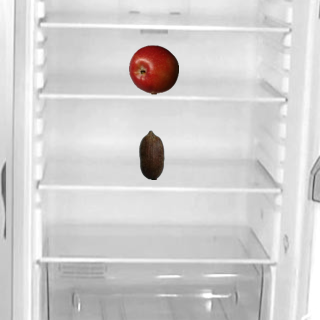Apple Braeburn: (128, 44, 178, 94)
Nut Pecan: (126, 129, 176, 179)
